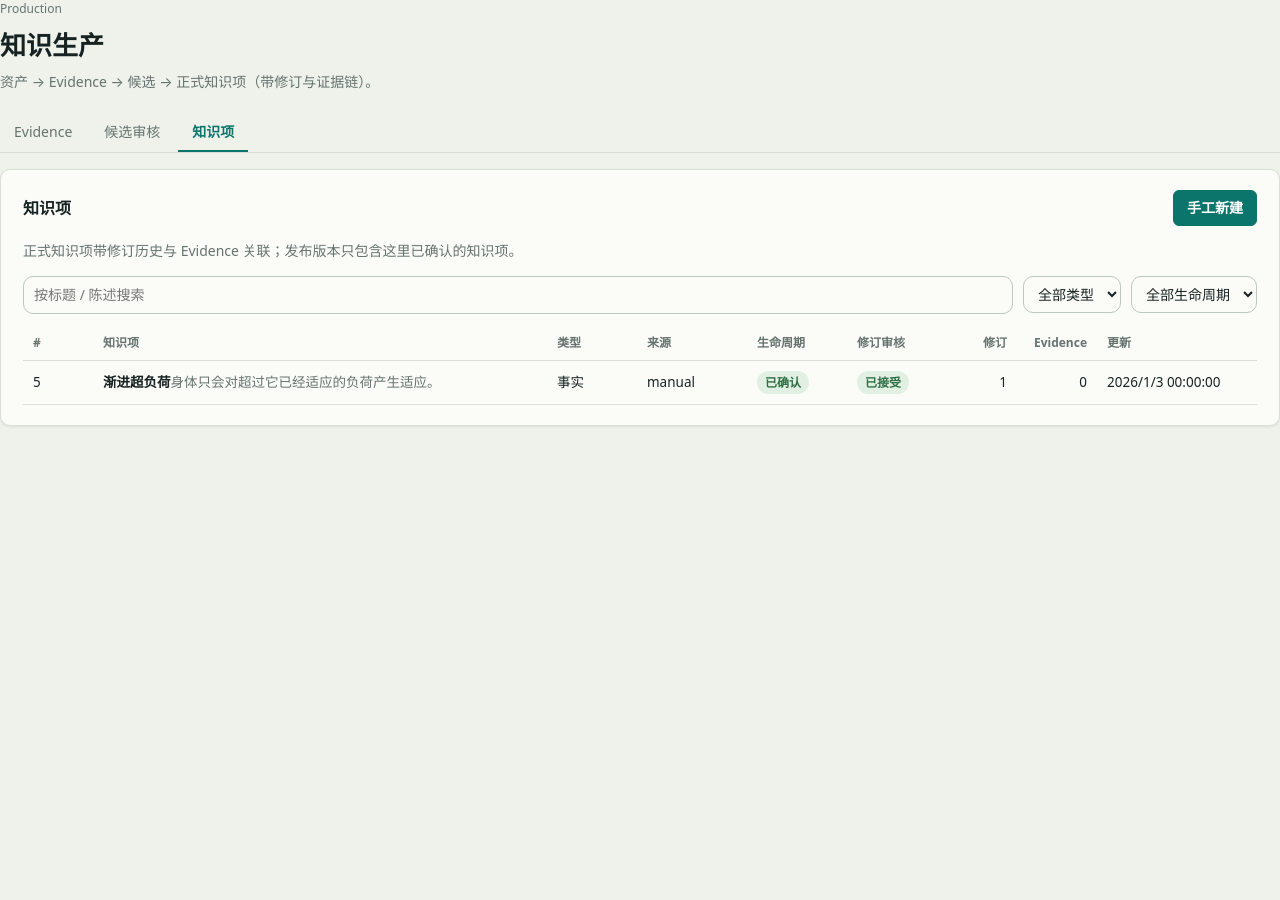
上链到知行图 › 上链未开启时只给说明
Click the text "渐进超负荷" at (137, 382), box [103,373,170,391]
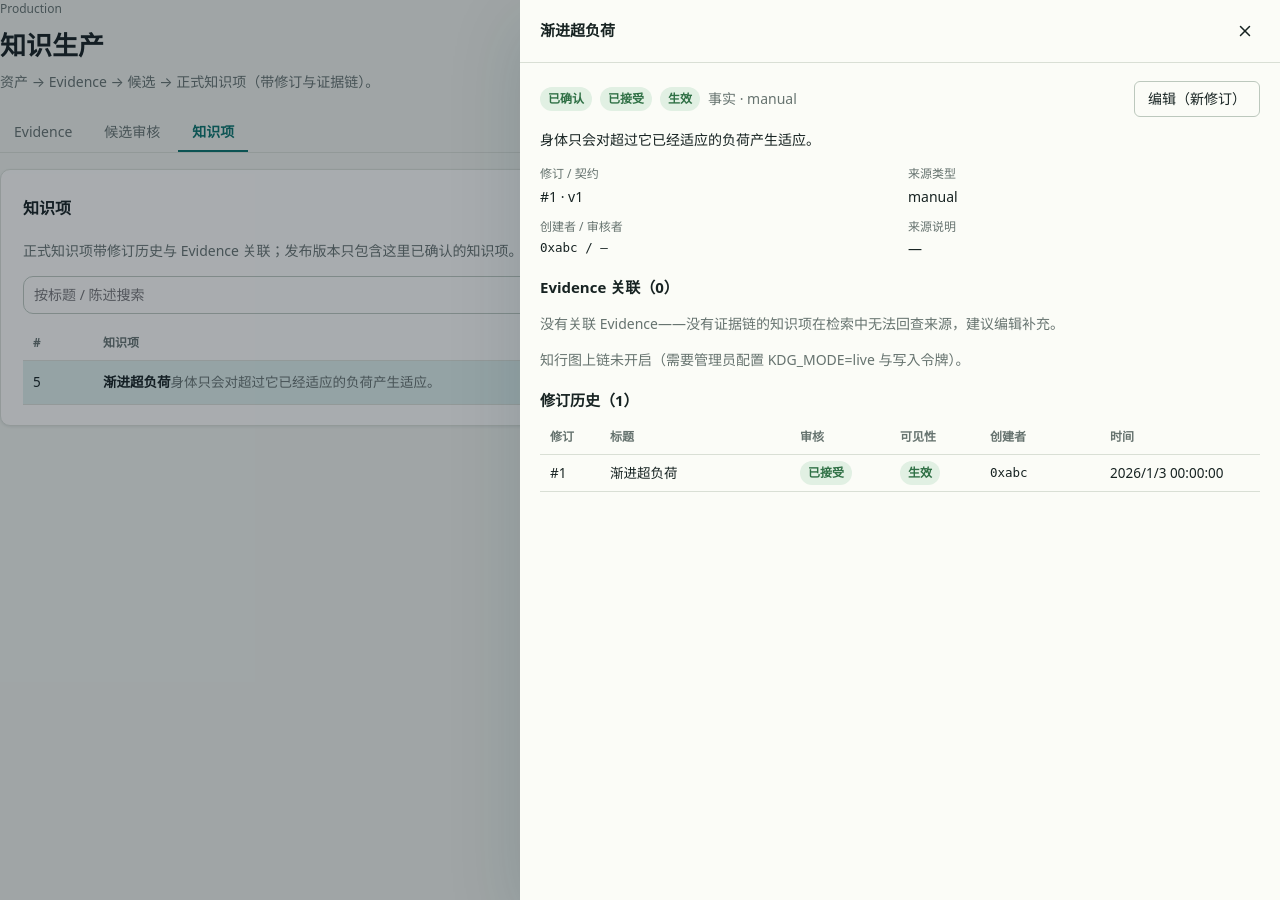
Expected: the text "知行图上链未开启（需要管理员配置 KDG_MODE=live 与写入令牌）。" is shown, [540,350,970,369]
